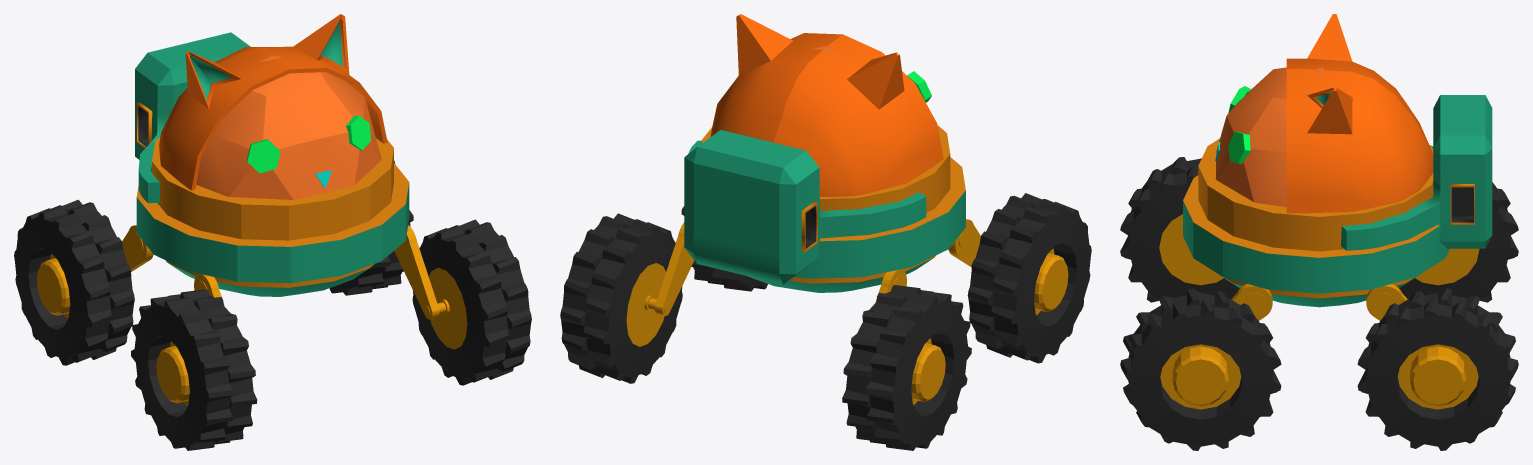
Rendered from cutebot.fbx.
3 renders of one model, left to right at view 1: azimuth 30°, elevation 25°; view 2: azimuth 150°, elevation 25°; view 3: azimuth 270°, elevation 25°, orthographic. The views are drawn at different scales.
Parts seen in each view (by area): view 1: Cylinder.002, Cylinder, Icosphere, Cylinder.001, Cube, Circle, Cylinder.004, Cylinder.003; view 2: Cylinder.002, Cylinder.001, Cube, Cylinder, Circle; view 3: Cylinder.002, Cylinder, Cylinder.001, Cube, Icosphere, Circle, Cylinder.003.
Boxes of the visible parts, left/top/right/bottom form: Cylinder.002: left=14, top=160, right=531, bottom=450; Cylinder: left=136, top=137, right=409, bottom=296; Icosphere: left=196, top=56, right=381, bottom=199; Cylinder.001: left=159, top=14, right=387, bottom=190; Cube: left=135, top=32, right=250, bottom=203; Circle: left=122, top=225, right=449, bottom=319; Cylinder.004: left=246, top=139, right=280, bottom=173; Cylinder.003: left=346, top=116, right=370, bottom=150; Cylinder.002: left=560, top=193, right=1091, bottom=450; Cylinder.001: left=710, top=14, right=943, bottom=196; Cube: left=684, top=130, right=926, bottom=284; Cylinder: left=701, top=125, right=965, bottom=292; Circle: left=644, top=219, right=980, bottom=315; Cylinder.002: left=1120, top=157, right=1518, bottom=450; Cylinder: left=1183, top=138, right=1449, bottom=307; Cylinder.001: left=1286, top=14, right=1433, bottom=213; Cube: left=1341, top=95, right=1492, bottom=250; Icosphere: left=1215, top=67, right=1324, bottom=207; Circle: left=1194, top=259, right=1444, bottom=320; Cylinder.003: left=1228, top=131, right=1250, bottom=163.
Bounding box in the file's own units: 139 × 131 × 147.
